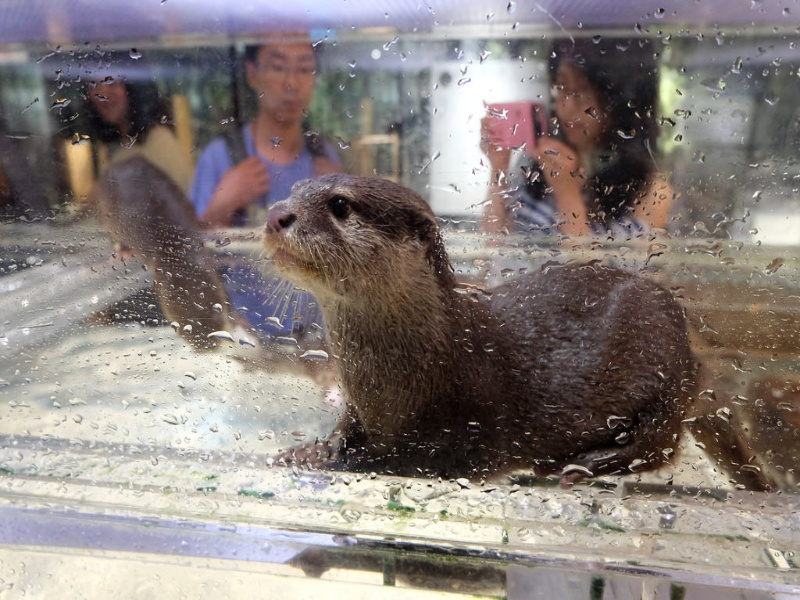minkish: (262, 176, 694, 493), (81, 151, 231, 338)
